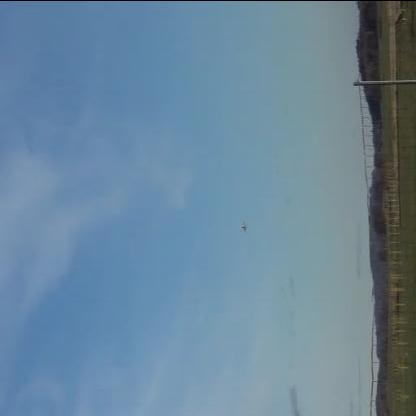plane: (241, 221, 249, 231)
